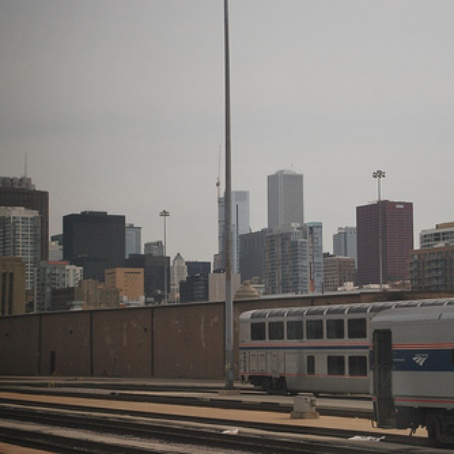building: (1, 178, 50, 299), (350, 199, 411, 290), (54, 202, 128, 261), (265, 224, 311, 299), (405, 229, 454, 291), (264, 170, 309, 231), (51, 260, 86, 311), (109, 259, 144, 310), (180, 258, 211, 303), (166, 246, 184, 299)
sky: (1, 1, 446, 176)
train: (233, 299, 366, 420), (362, 313, 454, 451)
train track: (1, 398, 350, 454)
